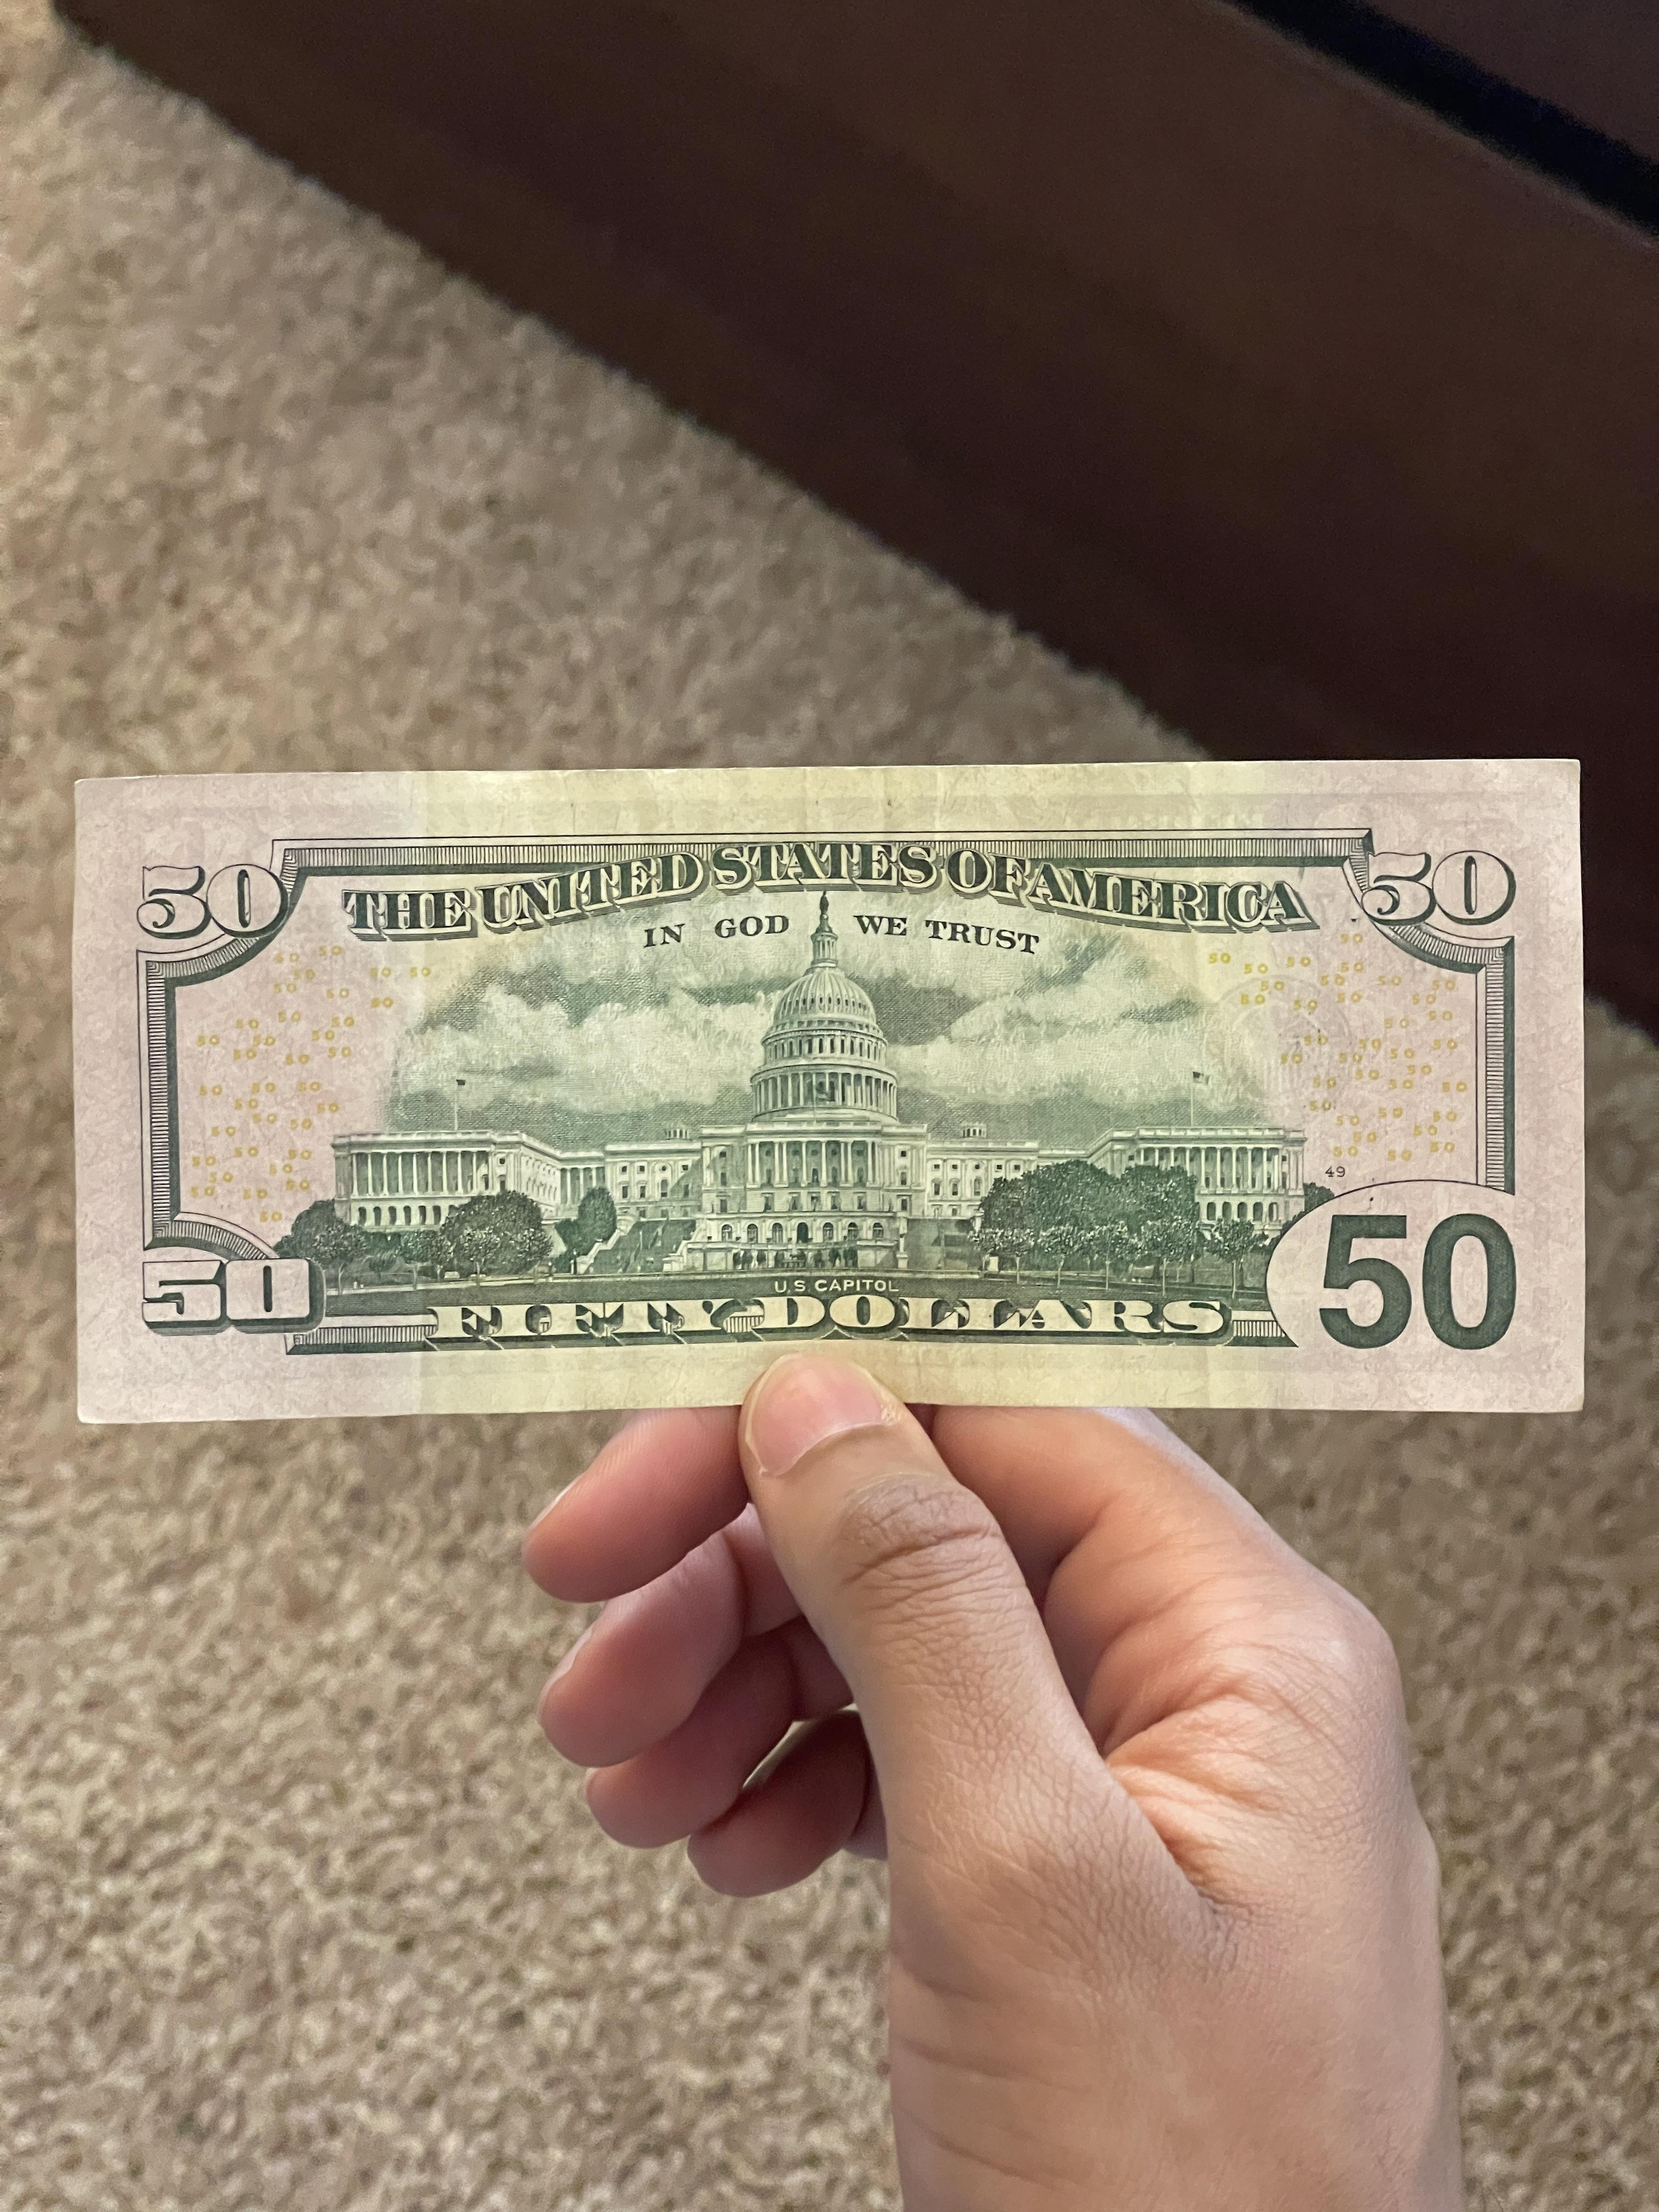FiftyBill: (61, 752, 1591, 1428)
